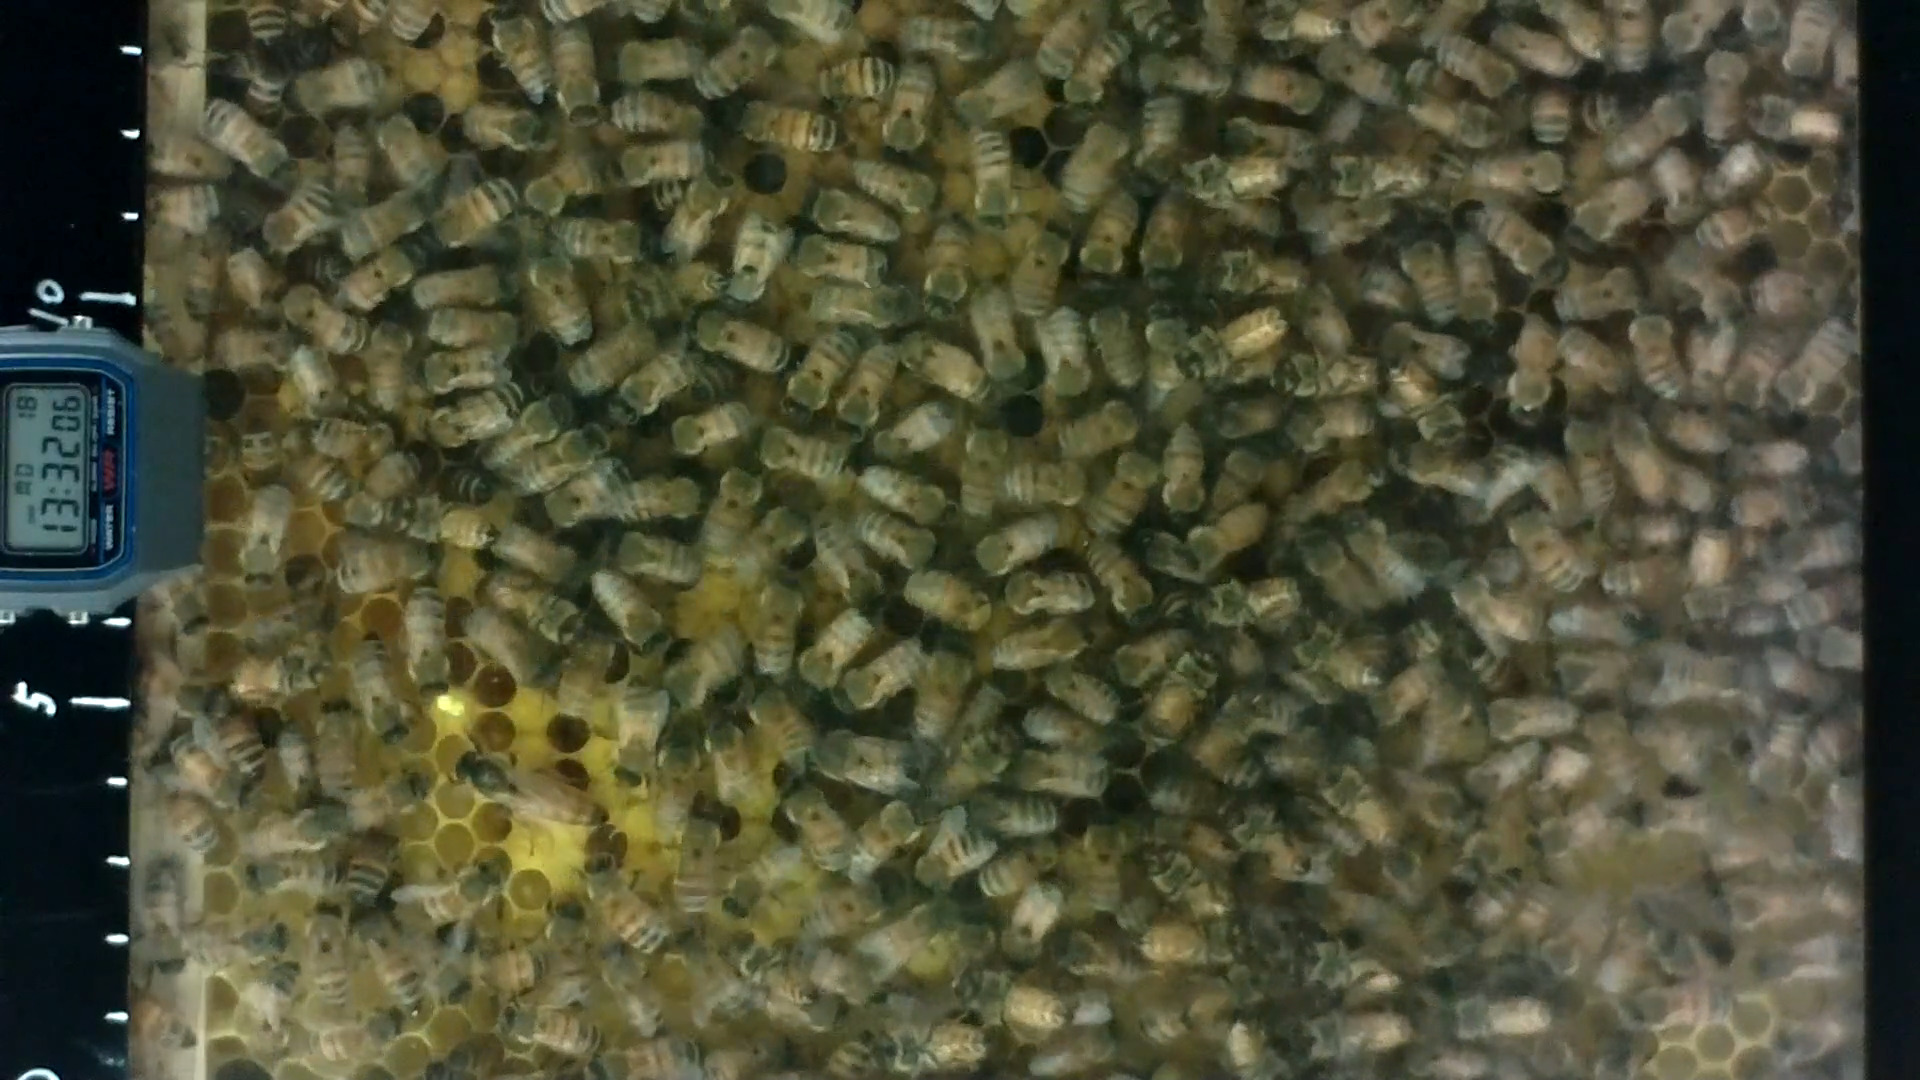hati: (463, 740, 611, 832), (200, 94, 295, 189), (775, 781, 856, 881), (1499, 506, 1585, 597), (591, 857, 669, 949), (407, 855, 502, 930), (349, 626, 407, 749), (749, 425, 851, 495), (741, 98, 844, 166), (487, 7, 553, 113), (585, 574, 665, 661), (1056, 119, 1126, 215), (342, 182, 425, 262), (671, 796, 727, 916), (433, 178, 518, 255), (687, 311, 793, 373), (965, 284, 1027, 389), (400, 585, 458, 696), (903, 568, 994, 638), (702, 458, 758, 570), (498, 1004, 607, 1062), (793, 233, 895, 291), (729, 204, 785, 311), (1402, 229, 1460, 331), (1634, 305, 1692, 405), (1269, 349, 1383, 400), (787, 327, 857, 407), (964, 132, 1025, 224), (365, 305, 415, 415), (241, 484, 290, 597), (1189, 154, 1291, 208), (669, 400, 757, 462), (1085, 303, 1142, 400), (750, 576, 800, 684), (549, 214, 651, 265), (1083, 808, 1133, 913), (1035, 305, 1087, 405), (1323, 149, 1431, 196), (1054, 405, 1150, 458), (608, 88, 705, 140), (1160, 419, 1207, 527), (922, 225, 972, 319), (885, 62, 940, 146), (607, 36, 702, 84), (604, 138, 702, 179), (415, 266, 510, 307), (415, 349, 513, 389), (1010, 570, 1092, 615)
